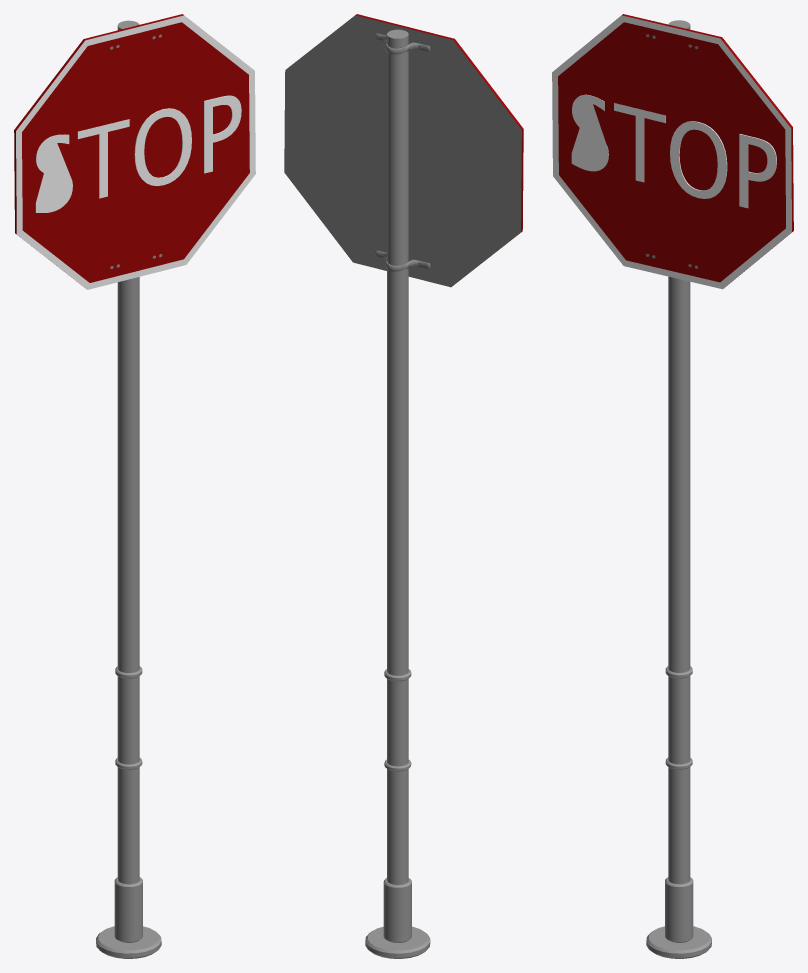
Rendered from AW_StopSign11_DF.fbx.
3 renders of one model, left to right at view 1: azimuth 30°, elevation 25°; view 2: azimuth 150°, elevation 25°; view 3: azimuth 330°, elevation 25°, orthographic.
Visible parts, largest first — view 1: StopSign; view 2: StopSign; view 3: StopSign.
Boxes of the visible parts, x1,y1,x2,y2 form: StopSign: (14,14,255,958); StopSign: (284,14,523,958); StopSign: (552,14,793,958).
Size of the model in its own units: 1.13 by 4.16 by 0.2693.
